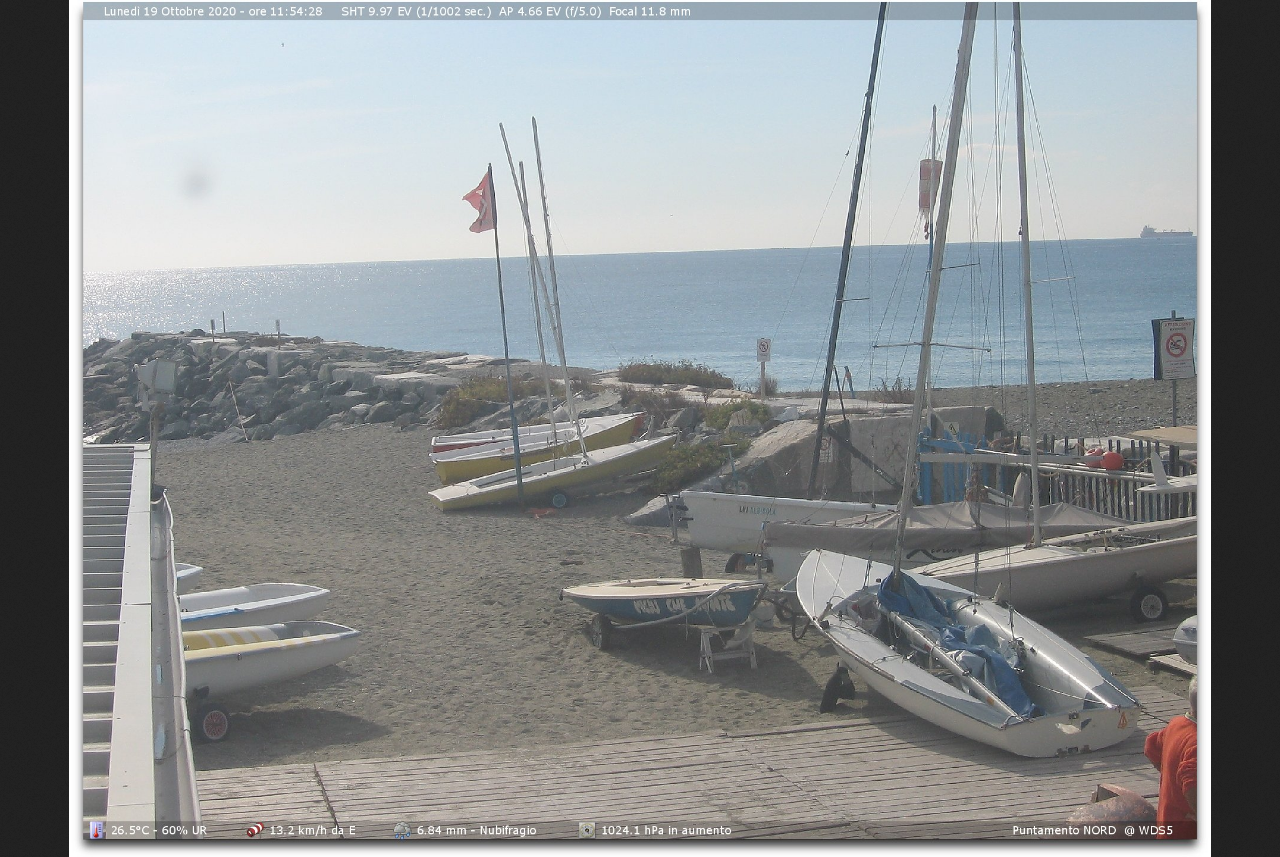maybe: (459, 170, 498, 232)
